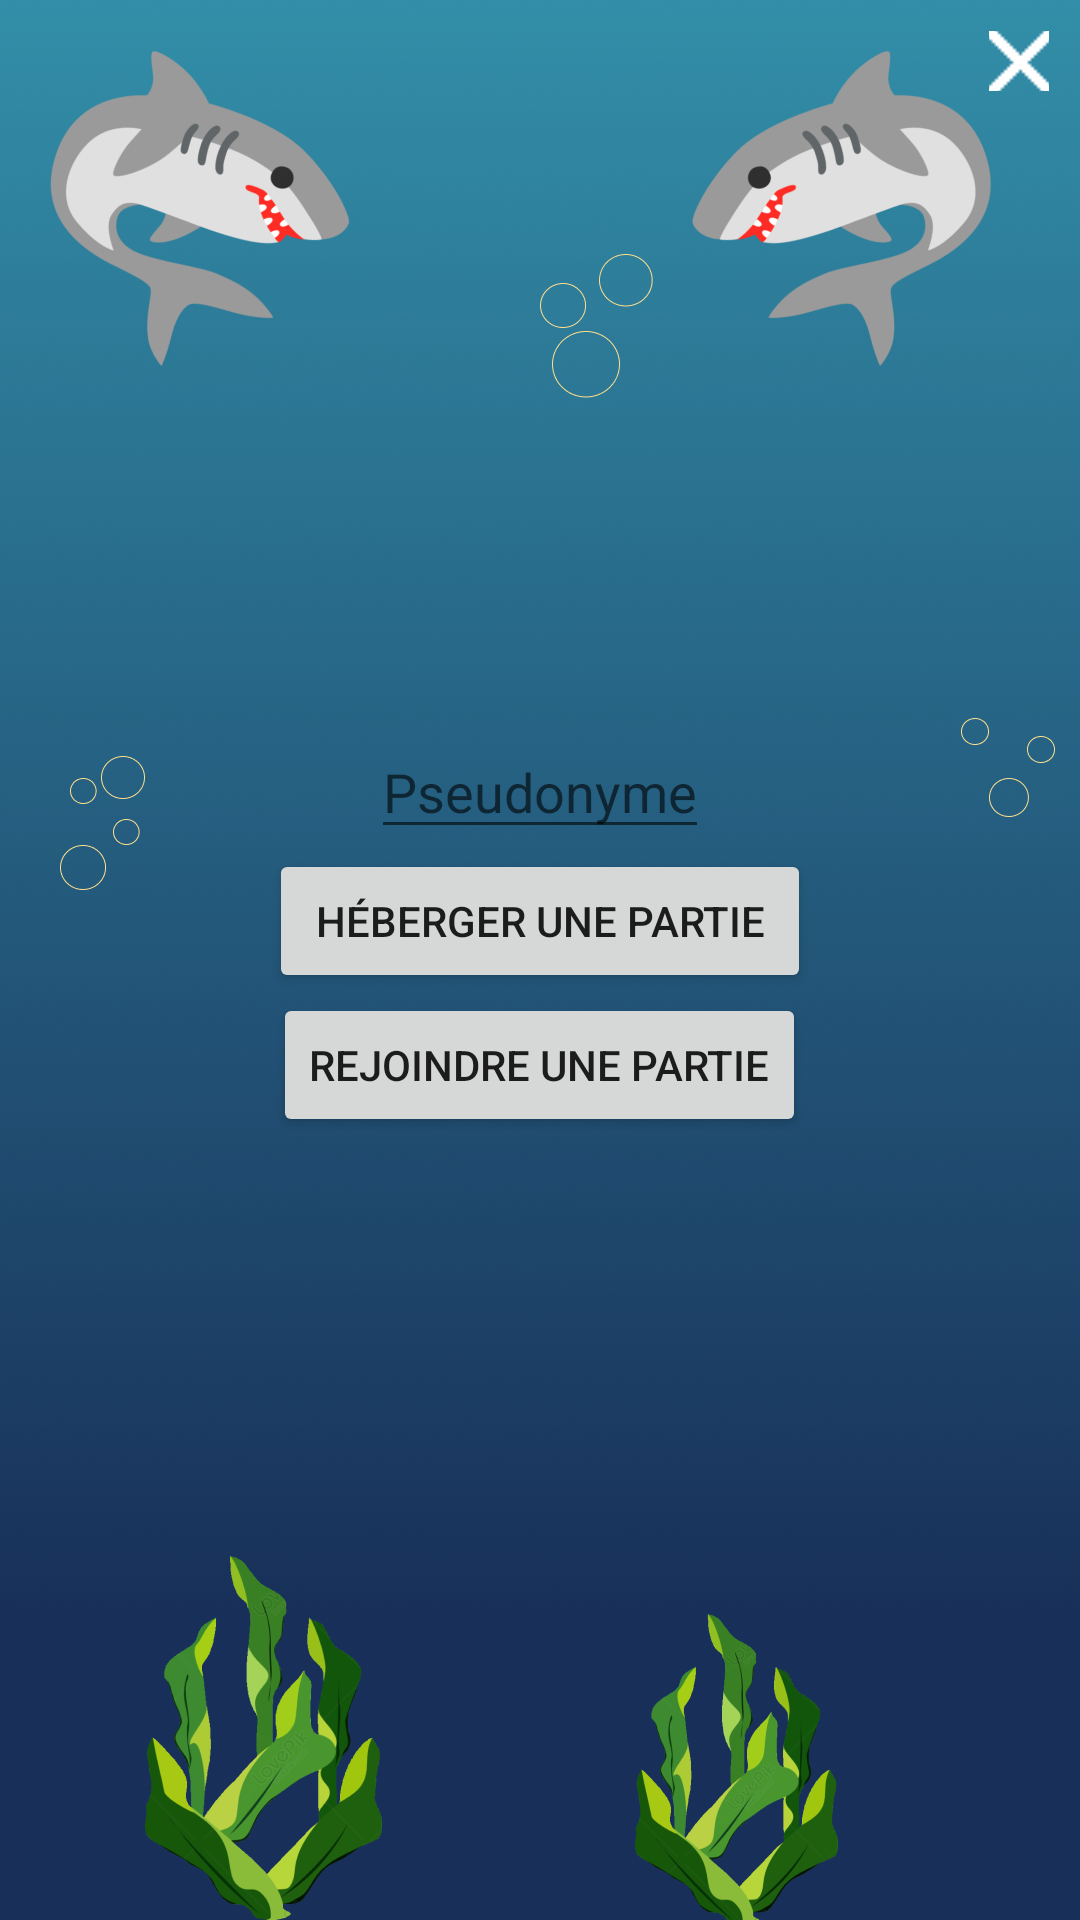

Screen size 1080×1920. Icon name, then its center in pixels as (x=x, y=y):
exit: (x=1019, y=61)
